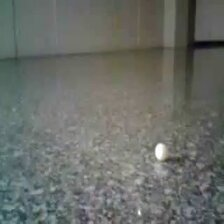w: (153, 143, 167, 160)
